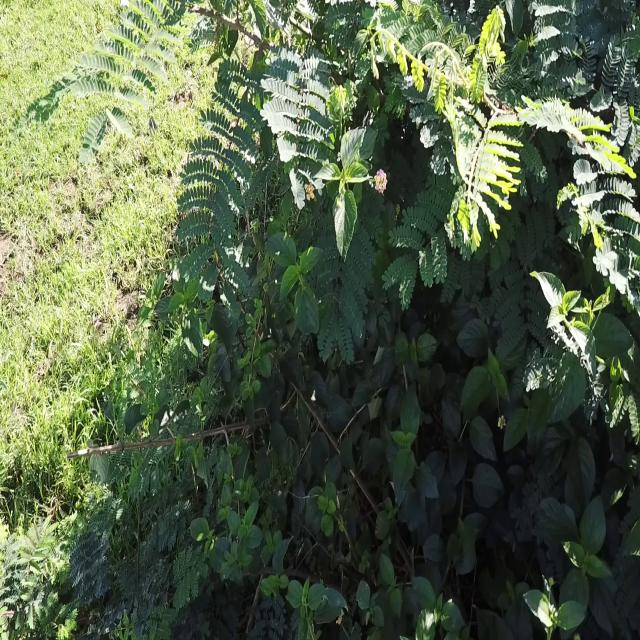Mysore-Thorn-Weed: (11, 0, 640, 368)
